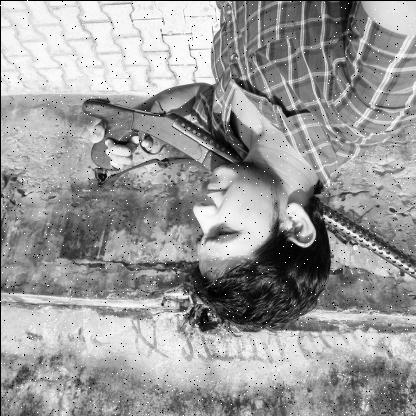rifle: (78, 95, 416, 279)
